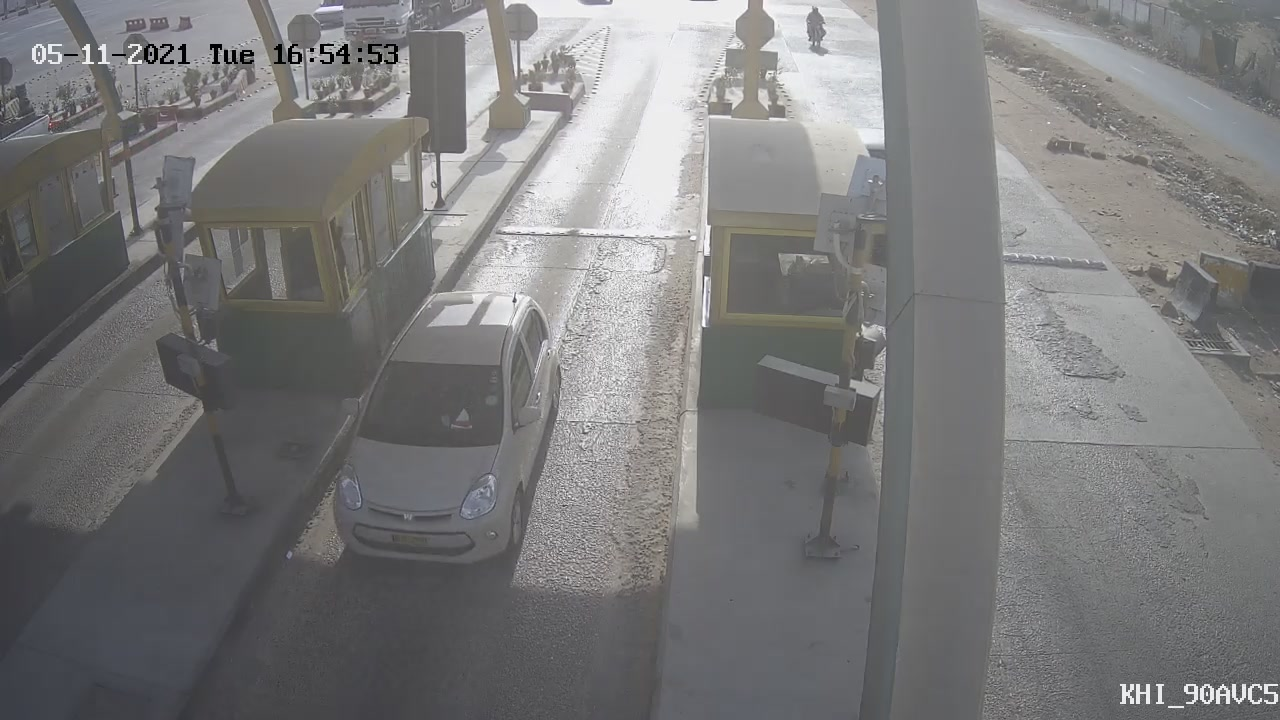F1: (298, 265, 586, 588)
